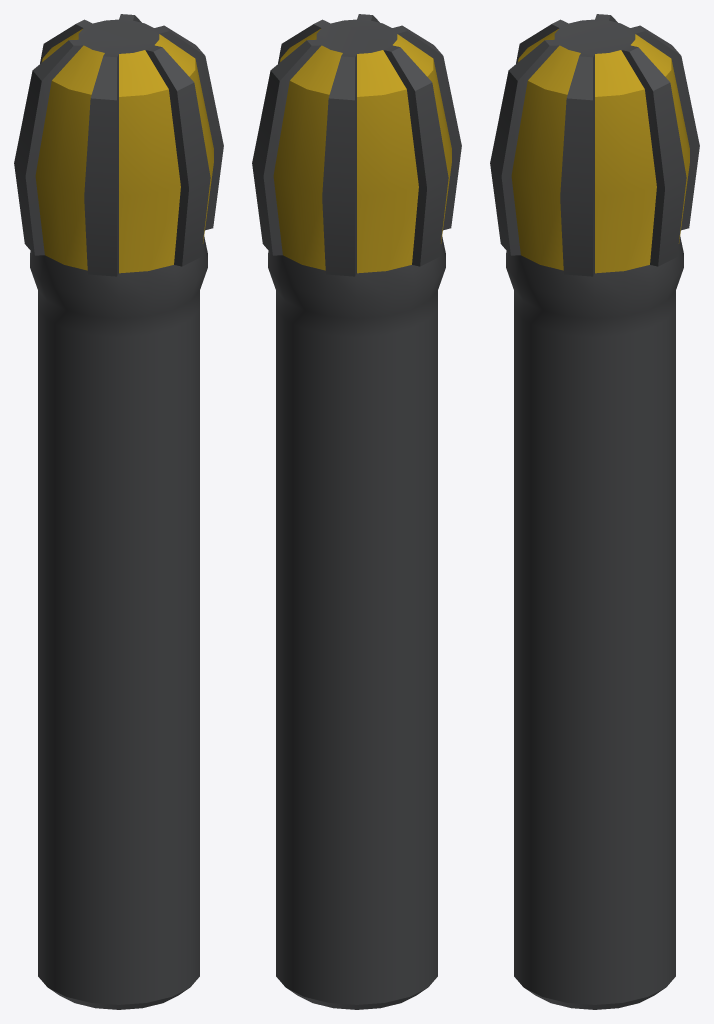
The model's file is Light Textured.FBX.
The picture shows the model from 3 angles, left to right: view 1: azimuth 30°, elevation 25°; view 2: azimuth 150°, elevation 25°; view 3: azimuth 270°, elevation 25°; orthographic projection.
Parts seen in each view (by area): view 1: Light; view 2: Light; view 3: Light.
Part boxes in pixels (left/top/right/bottom): Light: left=14, top=14, right=223, bottom=1009; Light: left=252, top=14, right=461, bottom=1009; Light: left=490, top=14, right=699, bottom=1009.
Bounding box in the file's own units: 4.43 × 21.63 × 4.35.
Materials: 2 (2 with a texture image).
